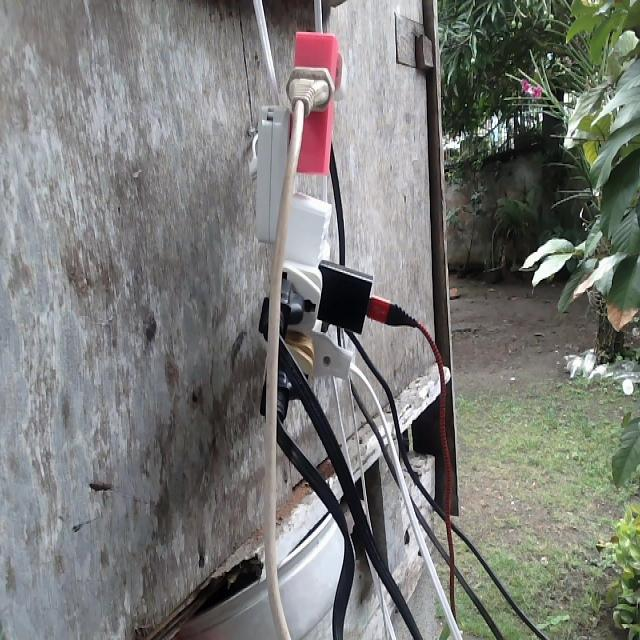-: (257, 29, 403, 423)
